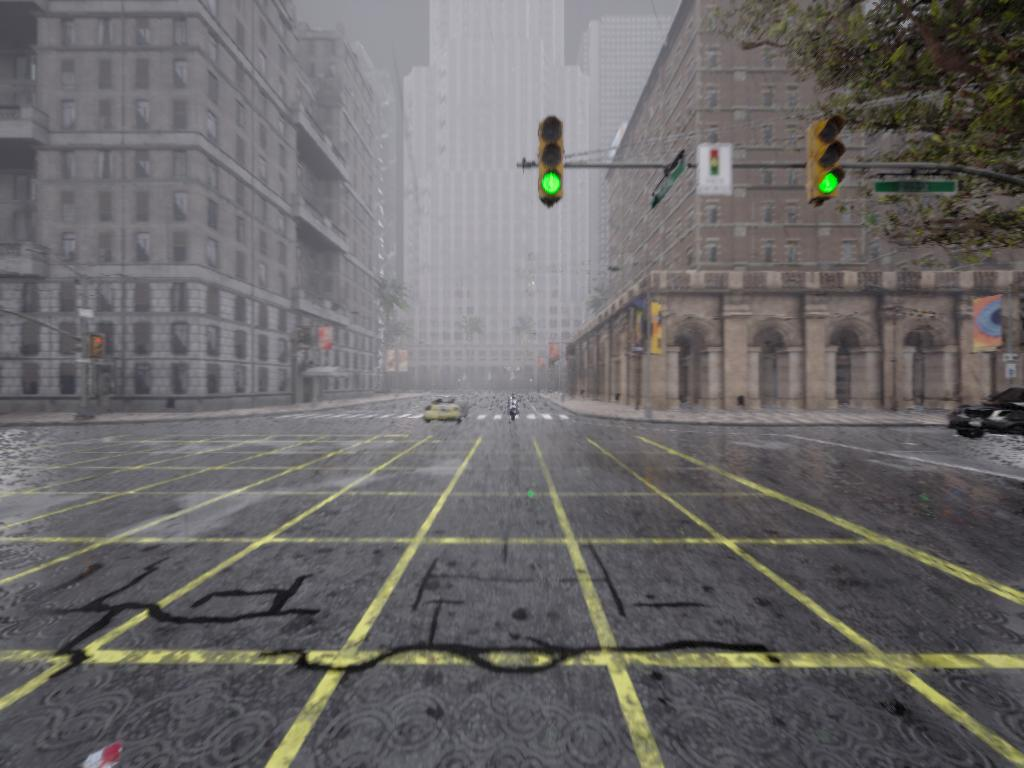traffic_light: (807, 115, 849, 202), (539, 115, 565, 201), (93, 337, 108, 360)
